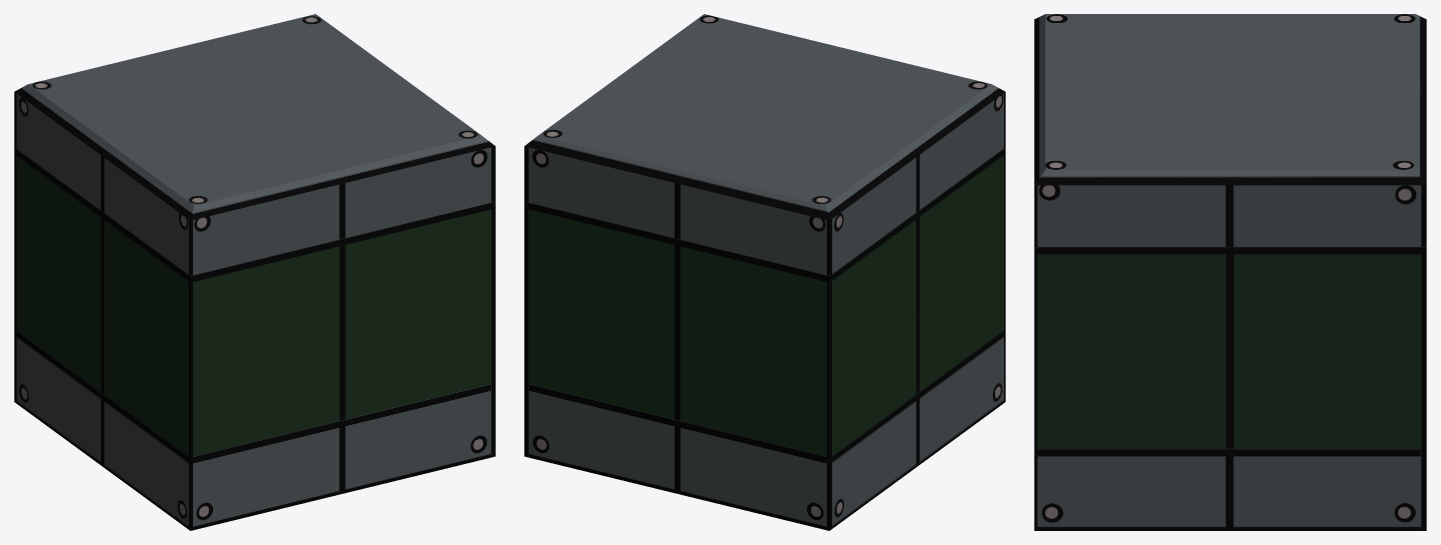
Rendered from tiles.fbx.
The picture shows the model from 3 angles, left to right: view 1: azimuth 30°, elevation 25°; view 2: azimuth 150°, elevation 25°; view 3: azimuth 270°, elevation 25°; orthographic projection. The views are drawn at different scales.
Parts seen in each view (by area): view 1: Cube; view 2: Cube; view 3: Cube.
Boxes of the visible parts, left/top/right/bottom form: Cube: left=14, top=14, right=495, bottom=530; Cube: left=524, top=14, right=1005, bottom=530; Cube: left=1034, top=14, right=1426, bottom=530.
Bounding box in the file's own units: 200 × 200 × 200.
1 material, 1 textured.
